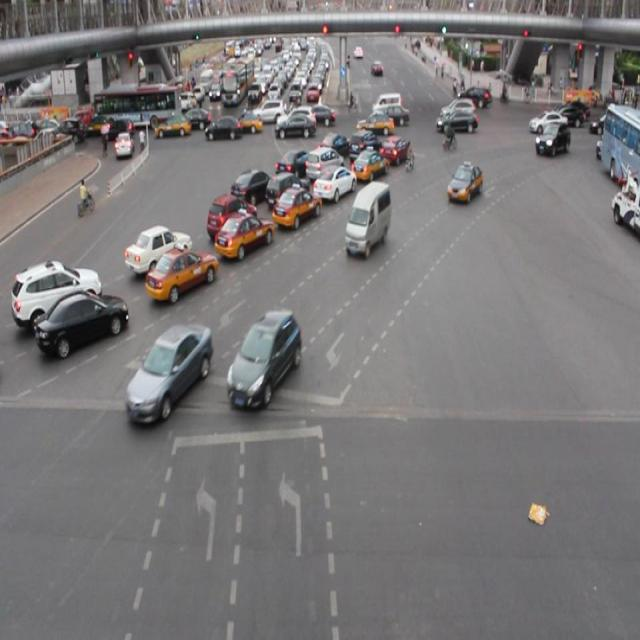car: (124, 322, 211, 421), (226, 310, 300, 405), (34, 290, 128, 354), (13, 261, 104, 322), (144, 249, 217, 301), (126, 224, 192, 274), (214, 209, 273, 258), (206, 193, 258, 237), (272, 183, 321, 229), (265, 170, 309, 210), (445, 160, 482, 207), (312, 162, 355, 202), (231, 169, 274, 206), (351, 144, 388, 183), (533, 120, 569, 160), (275, 150, 315, 183), (379, 132, 411, 168), (348, 129, 379, 165), (316, 132, 349, 160)
truck: (346, 183, 390, 257), (305, 146, 343, 182)
